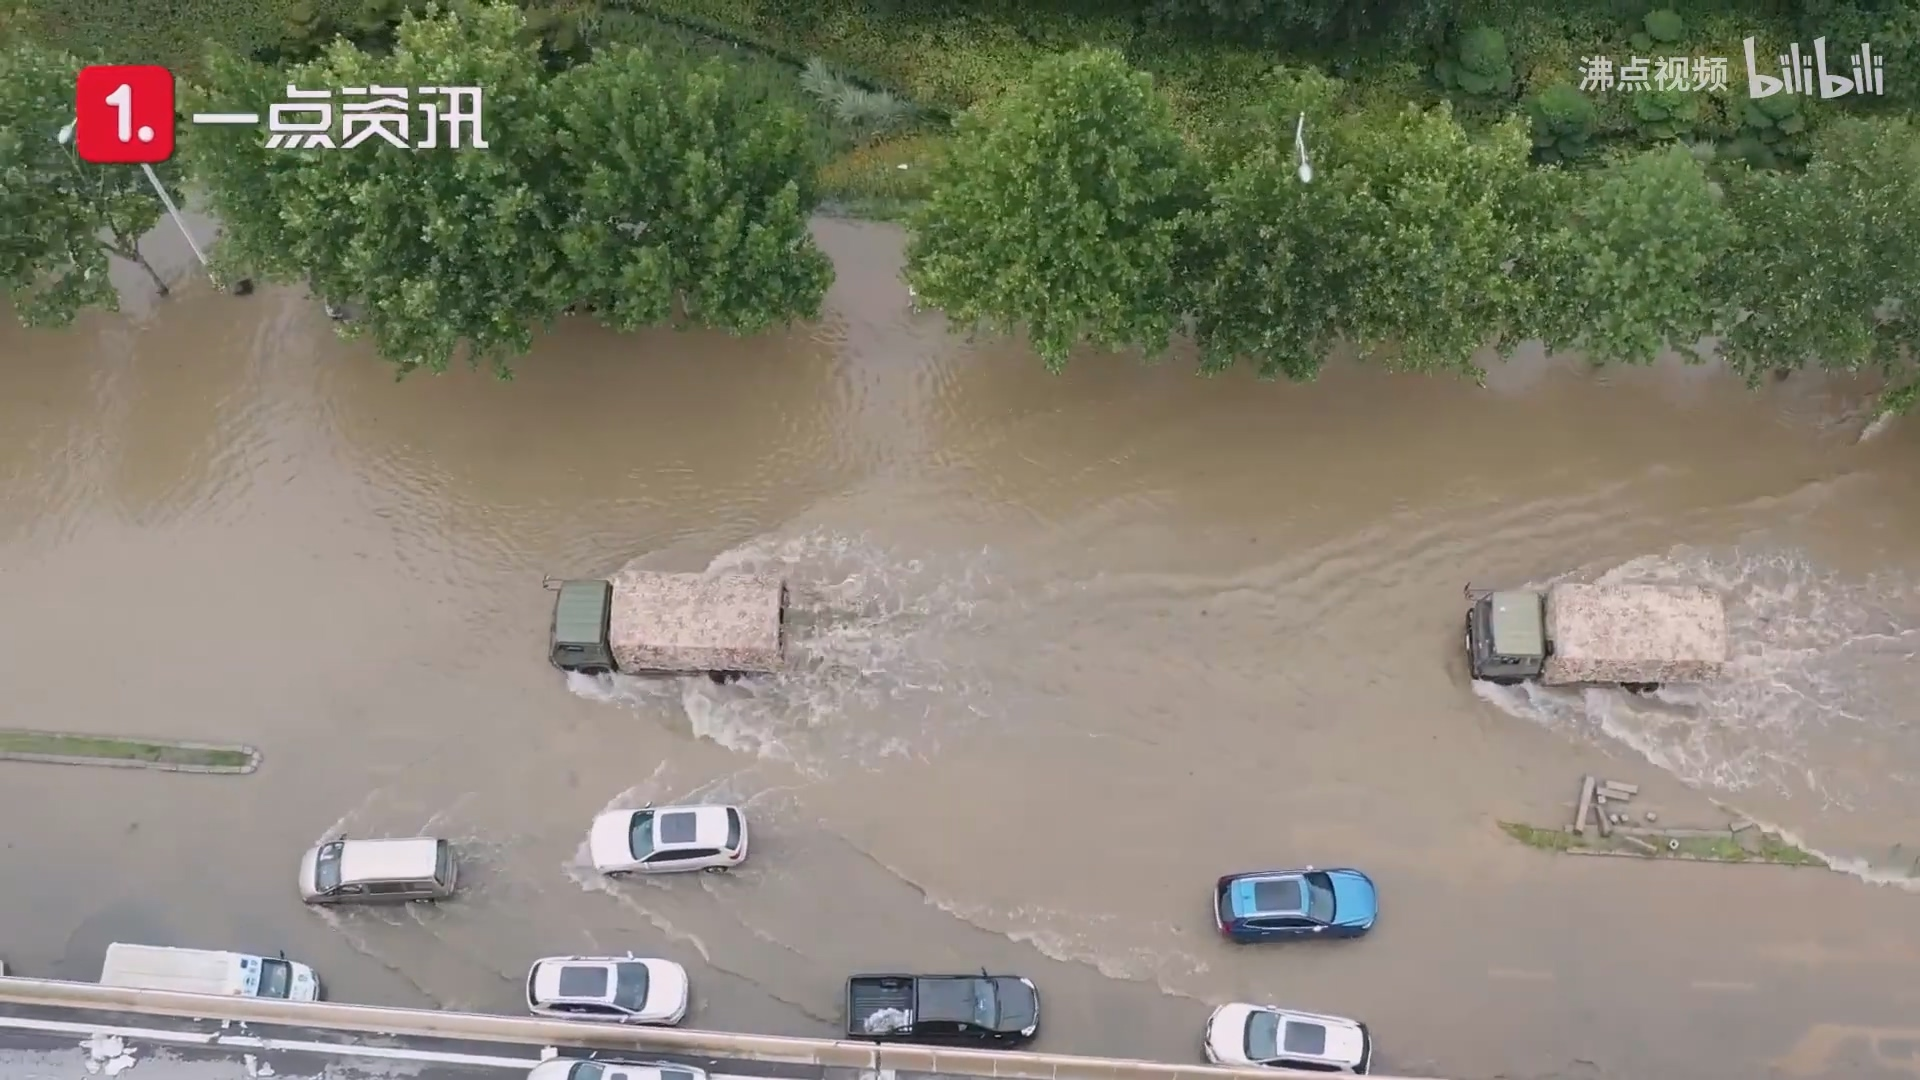puddle: (11, 272, 1920, 1080)
